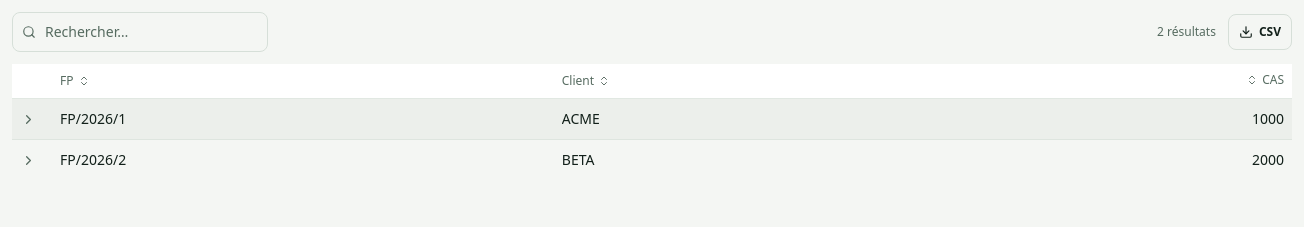
Scenario: ListView — recherche, détail extensible, colonnes › détail extensible : le chevron révèle le panneau sous la ligne
Check: the text "détail-ACME" is not shown
Click the button named "Afficher le détail" next to "FP/2026/1": (28, 119) [16,107,40,131]
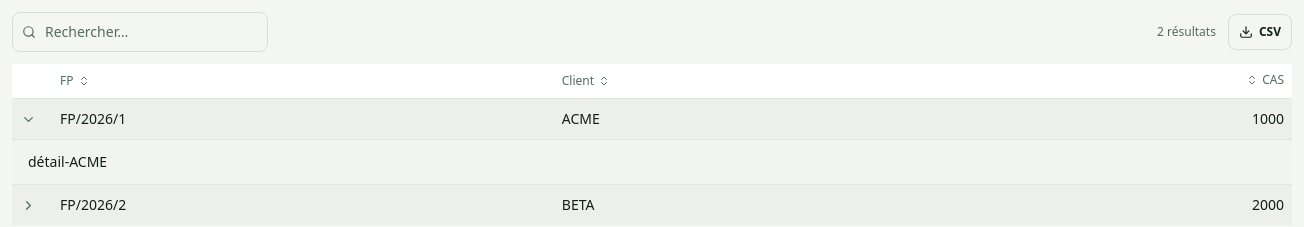
Check: the text "détail-ACME" is shown, box [28,152,107,171]
